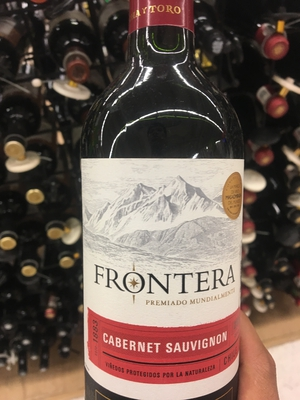frontera cabernet sauvignon: (80, 23, 254, 400)
